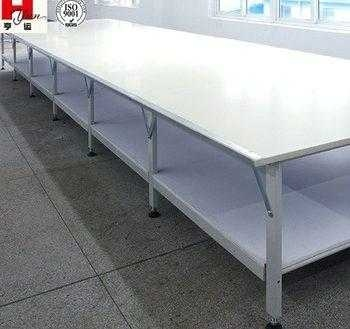obstacle: (0, 19, 349, 321)
